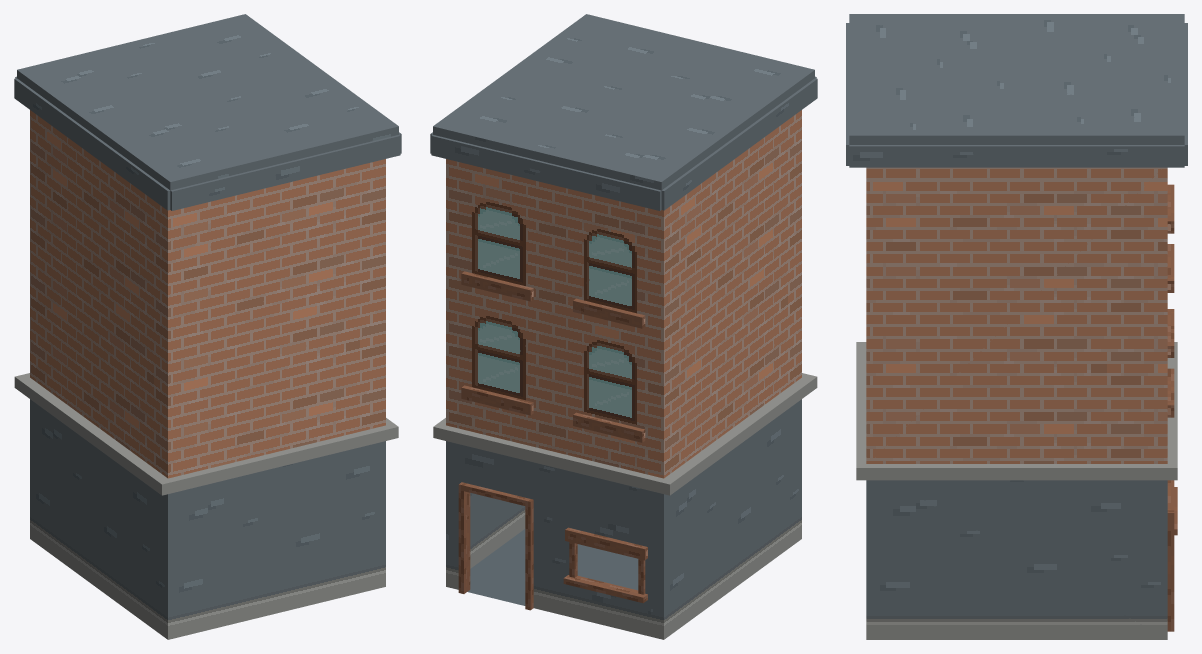
The model's file is Predio.gltf.
3 views of the same model, side by side, from view 1: azimuth 30°, elevation 25°; view 2: azimuth 150°, elevation 25°; view 3: azimuth 270°, elevation 25° (orthographic). The views are drawn at different scales.
Visible parts, largest first — view 1: cuboid (×4); view 2: cuboid (×6); view 3: cuboid (×6).
Part boxes in pixels (x1,y1,x2,y2): cuboid (×4): [14, 14, 401, 639]; cuboid (×6): [430, 14, 817, 639]; cuboid (×6): [846, 14, 1187, 639].
Size of the model in its own units: 5.56 by 10.44 by 6.38.
Materials: 6 (6 with a texture image).
